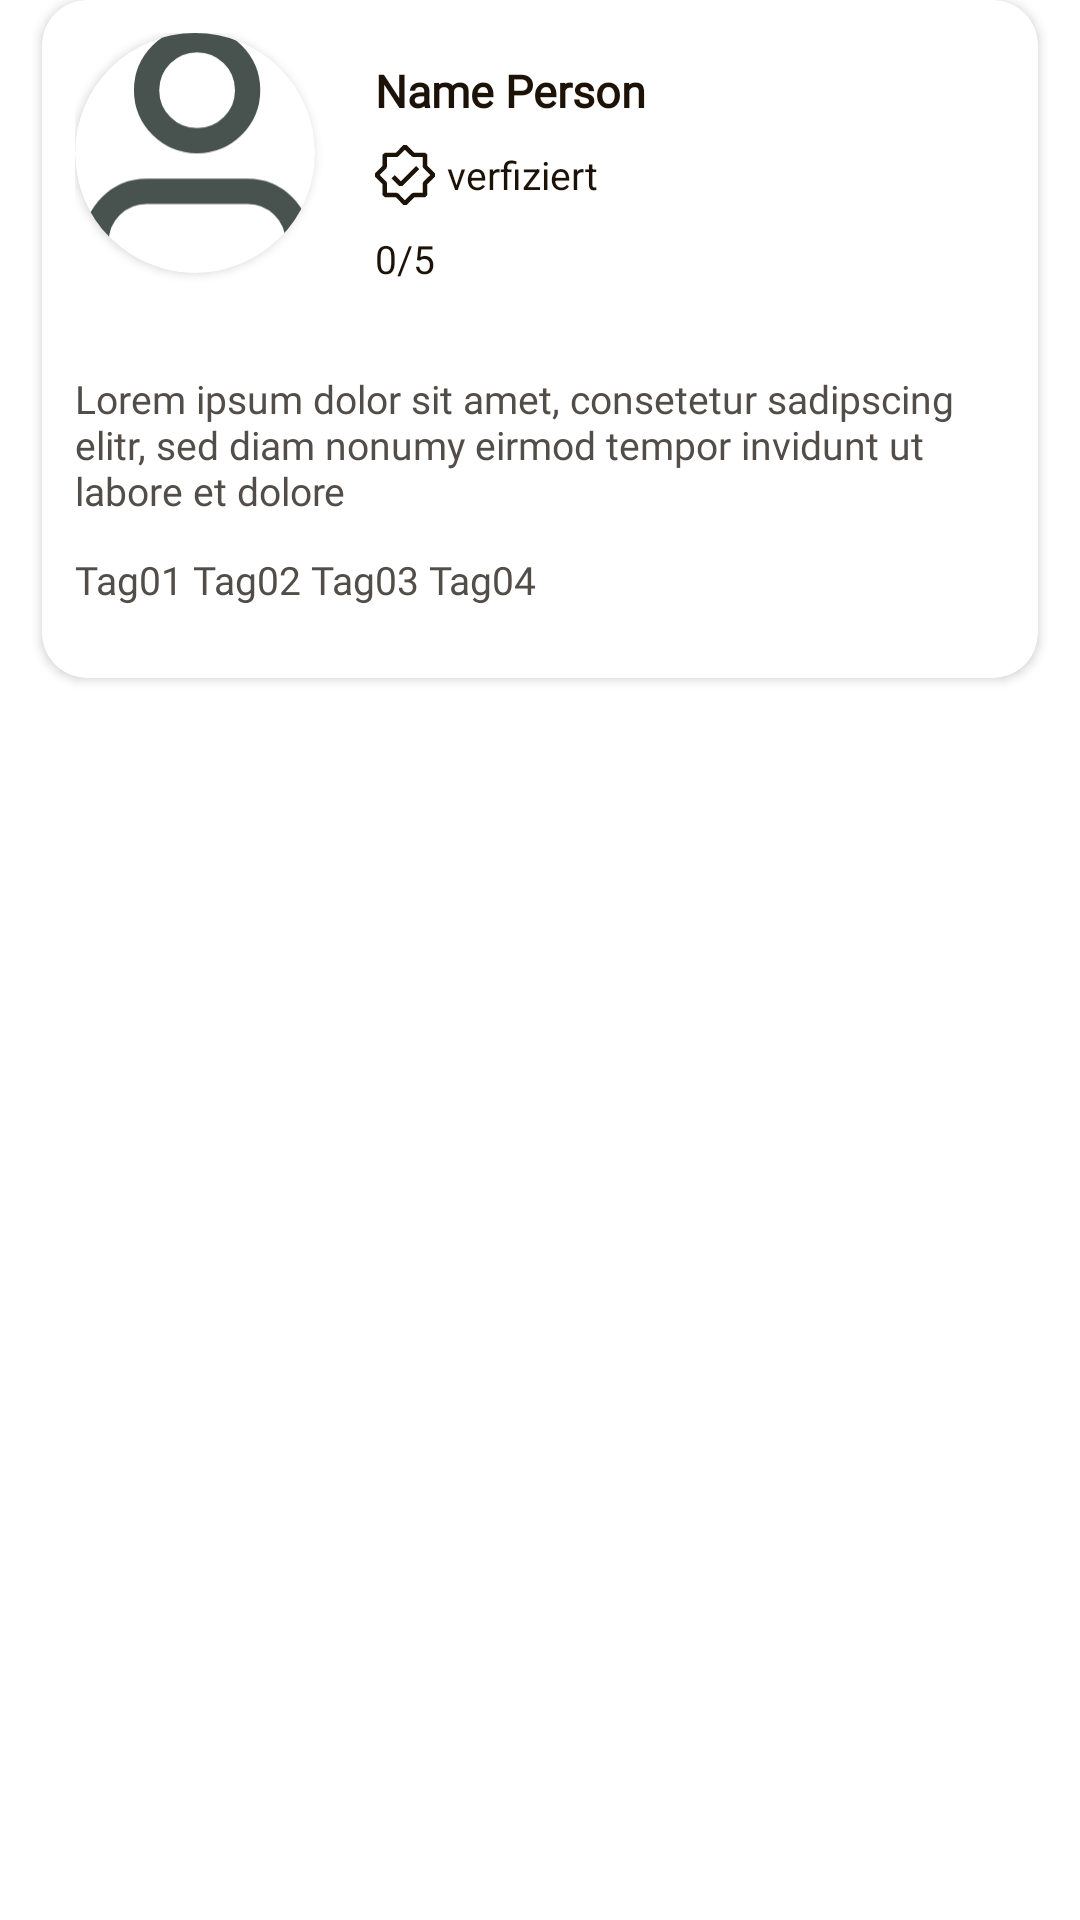

Icon bounding boxes for this 1080 x 1920 phone screenshot, format [left=x1, top=y1, right=x2, bottom=y2]:
mein profil: [left=75, top=33, right=302, bottom=237]
